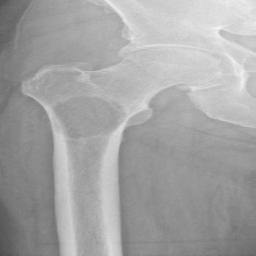cancer: (49, 95, 127, 138)
